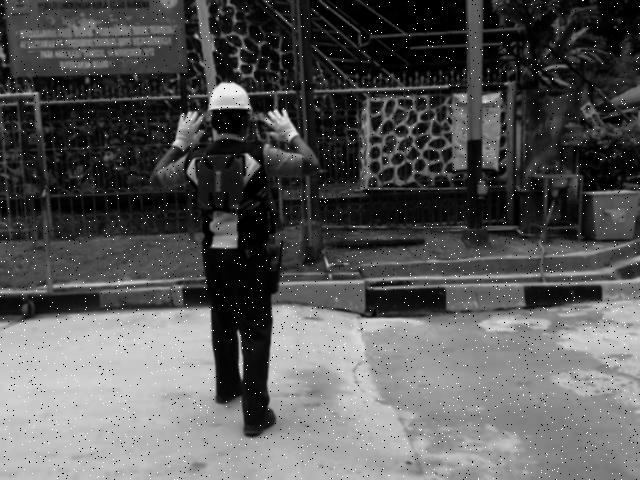gloves: (170, 108, 207, 151), (262, 108, 300, 144)
helmet: (207, 79, 252, 112)
safety-shoes: (241, 404, 278, 439), (213, 376, 245, 405)
vest: (193, 153, 251, 208)
